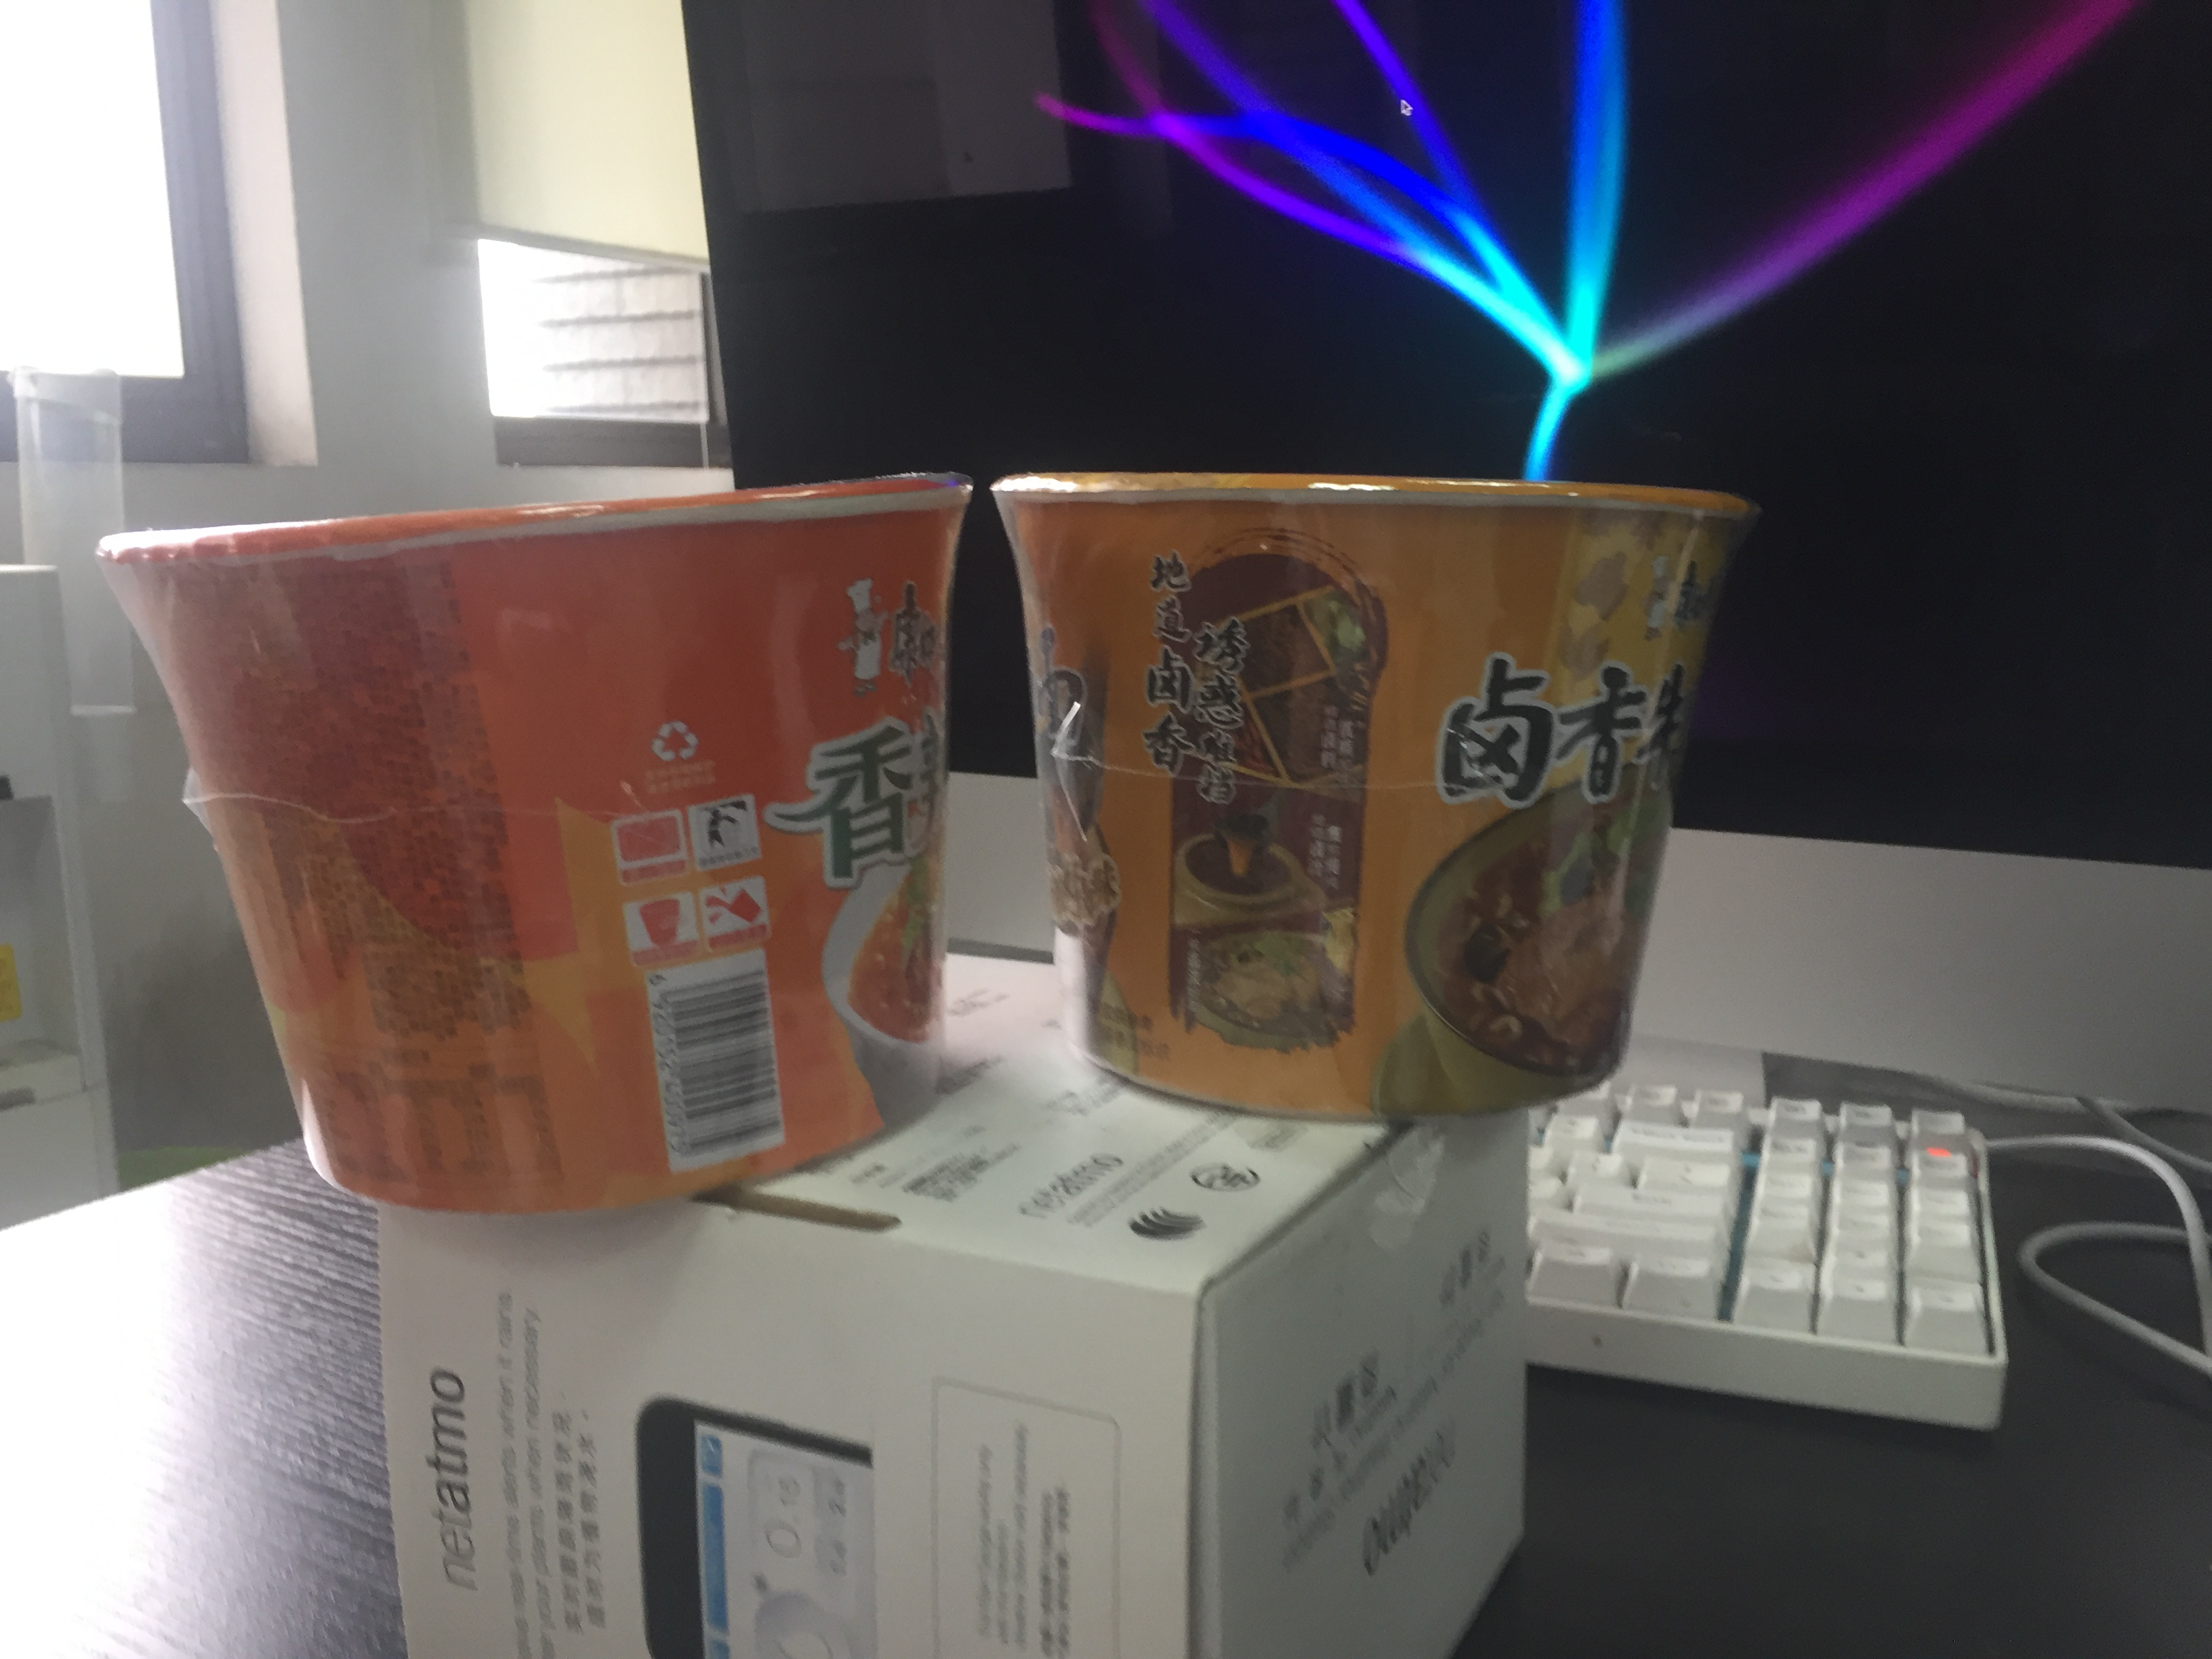luxiang: (989, 467, 1763, 1126)
xiangla: (92, 471, 981, 1223)
